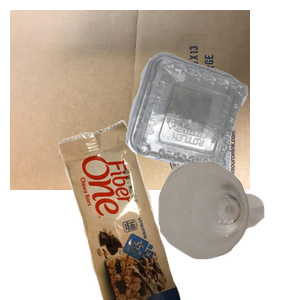cardboard: (10, 10, 250, 190)
glass: (156, 159, 300, 300)
plastic: (123, 50, 300, 214)
trash: (56, 120, 229, 300)
